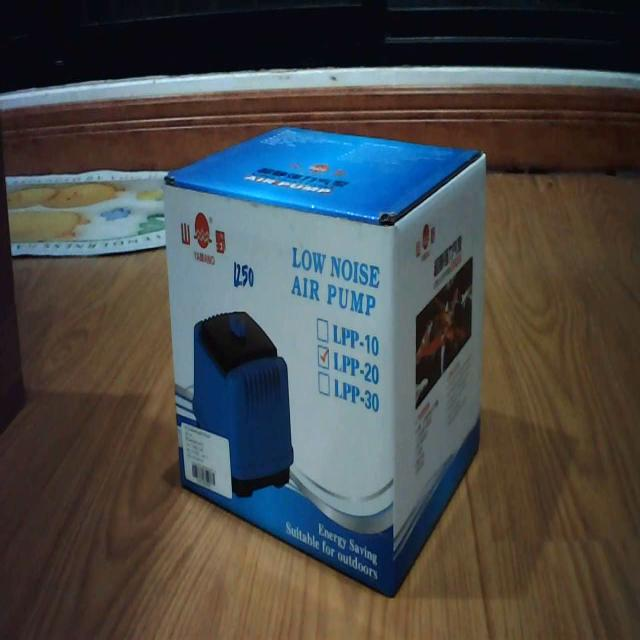YAMANO_LPP_20: (156, 107, 490, 602)
